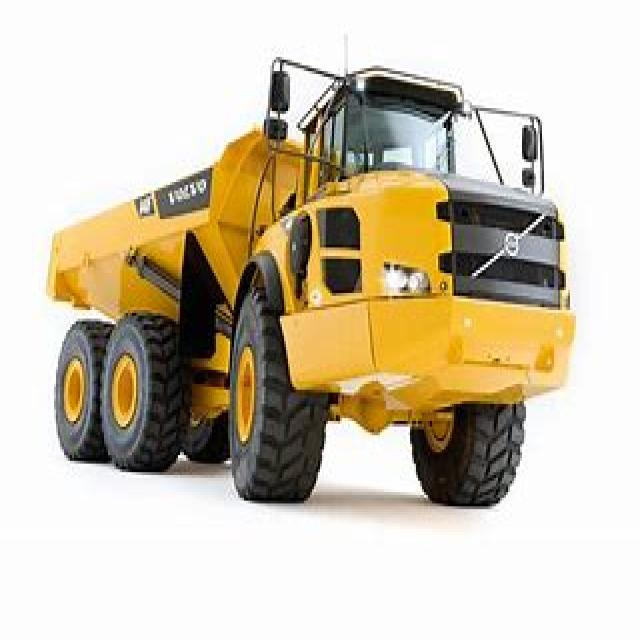dump_truck: (40, 57, 580, 515)
